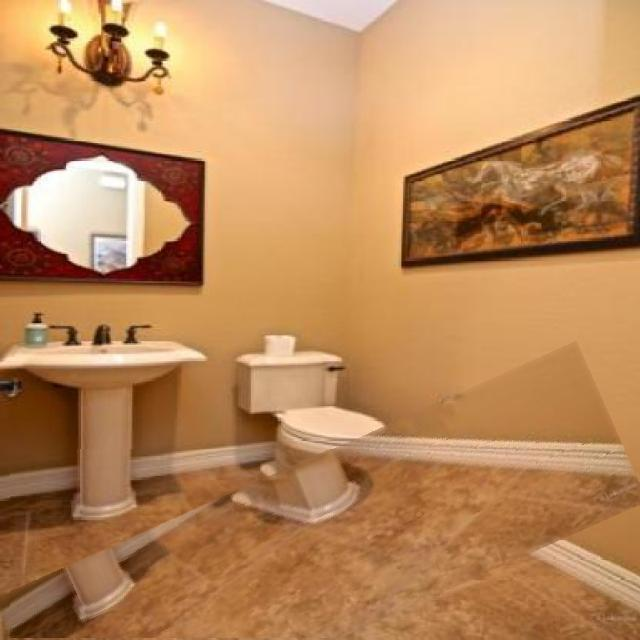floor: (11, 450, 639, 639)
